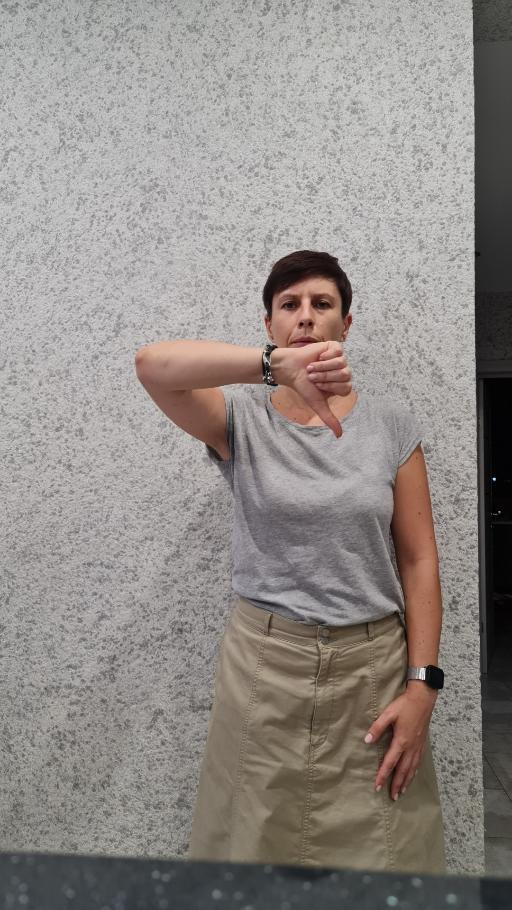dislike: (282, 336, 356, 439)
no_gesture: (362, 690, 438, 802)
